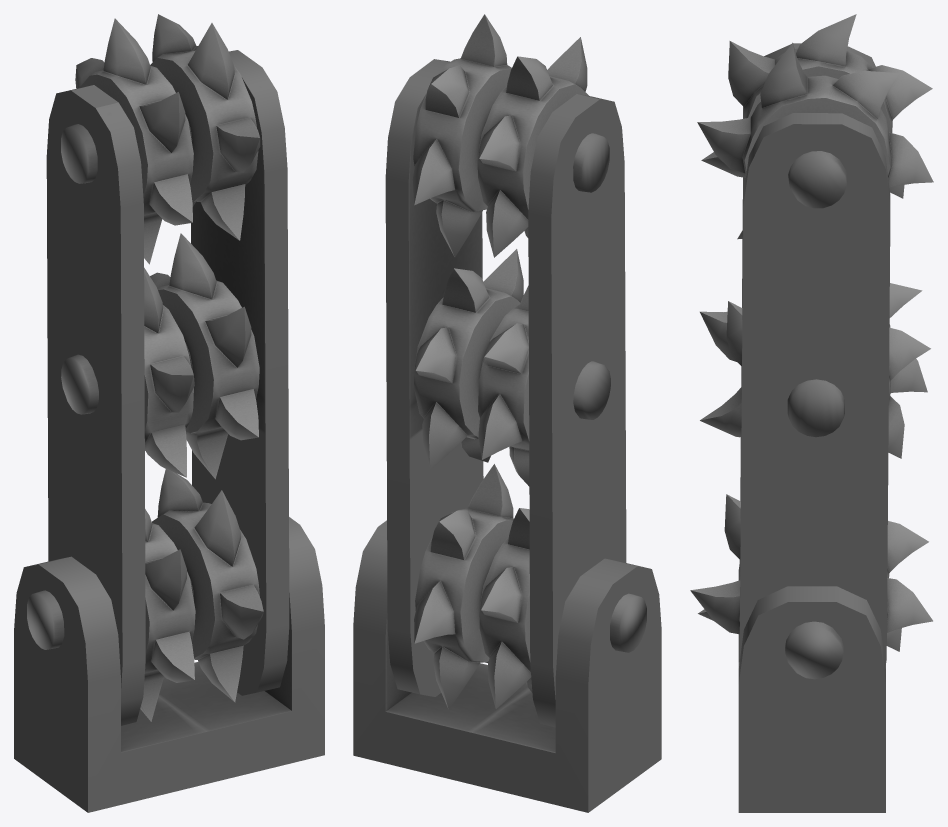
The model's file is decoChainsaw.fbx.
3 renders of one model, left to right at view 1: azimuth 30°, elevation 25°; view 2: azimuth 150°, elevation 25°; view 3: azimuth 270°, elevation 25°, orthographic.
Visible parts, largest first — view 1: decoChainsaw_support2, decoChainsaw_support1, decoChainsaw_blade3, decoChainsaw_blade2, decoChainsaw_blade1; view 2: decoChainsaw_support2, decoChainsaw_support1, decoChainsaw_blade3, decoChainsaw_blade1, decoChainsaw_blade2; view 3: decoChainsaw_support2, decoChainsaw_support1, decoChainsaw_blade3, decoChainsaw_blade2, decoChainsaw_blade1.
Part boxes in pixels (x1,y1,x2,y2): decoChainsaw_support2: (46,50,289,725); decoChainsaw_support1: (14,517,324,812); decoChainsaw_blade3: (61,14,260,264); decoChainsaw_blade2: (61,233,259,479); decoChainsaw_blade1: (27,469,263,721); decoChainsaw_support2: (385,59,626,727); decoChainsaw_support1: (353,520,661,812); decoChainsaw_blade3: (412,14,609,257); decoChainsaw_blade1: (414,464,646,709); decoChainsaw_blade2: (414,249,610,486); decoChainsaw_support2: (739,43,890,665); decoChainsaw_support1: (738,564,885,812); decoChainsaw_blade3: (697,14,933,239); decoChainsaw_blade2: (700,283,930,458); decoChainsaw_blade1: (690,494,932,679).
Bounding box in the file's own units: 1.25 × 3.42 × 1.04.
